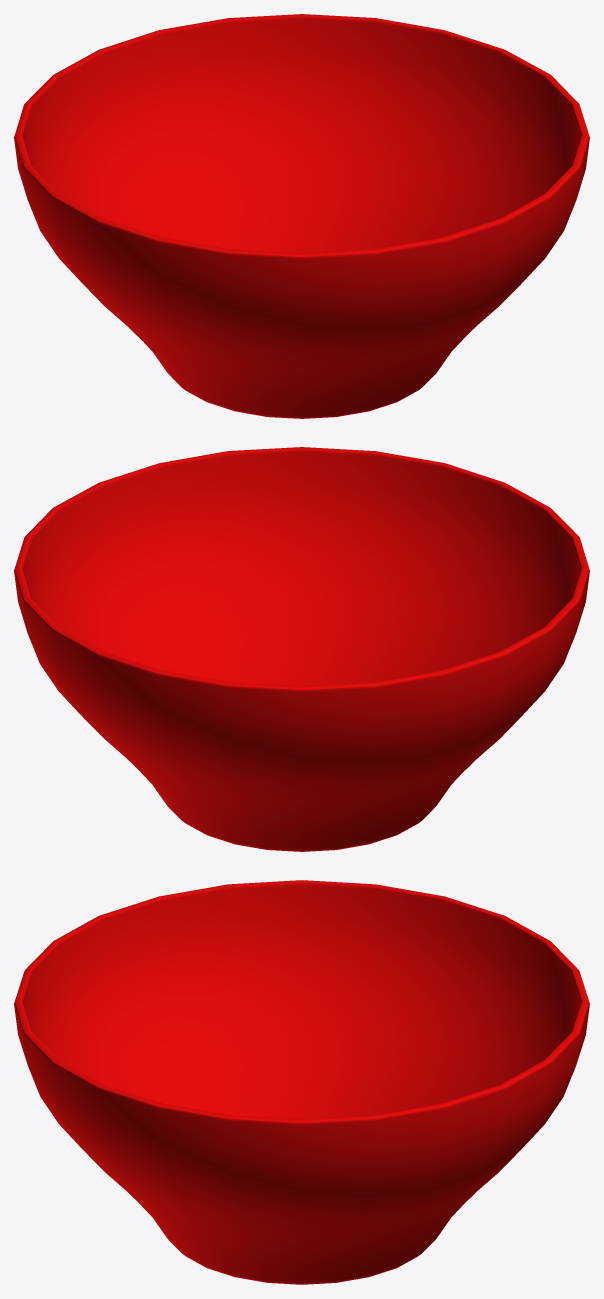
Rendered from thorkea_bowls_grp.fbx.
The picture shows the model from 3 angles, top to bottom: view 1: azimuth 30°, elevation 25°; view 2: azimuth 150°, elevation 25°; view 3: azimuth 270°, elevation 25°; orthographic projection.
Visible parts, largest first — view 1: thorkea_bowl_ai2; view 2: thorkea_bowl_ai2; view 3: thorkea_bowl_ai2.
Part boxes in pixels (left/top/right/bottom): thorkea_bowl_ai2: left=14, top=14, right=589, bottom=418; thorkea_bowl_ai2: left=14, top=447, right=589, bottom=851; thorkea_bowl_ai2: left=14, top=880, right=589, bottom=1284.
Bounding box in the file's own units: 15.98 × 7.02 × 15.98.
